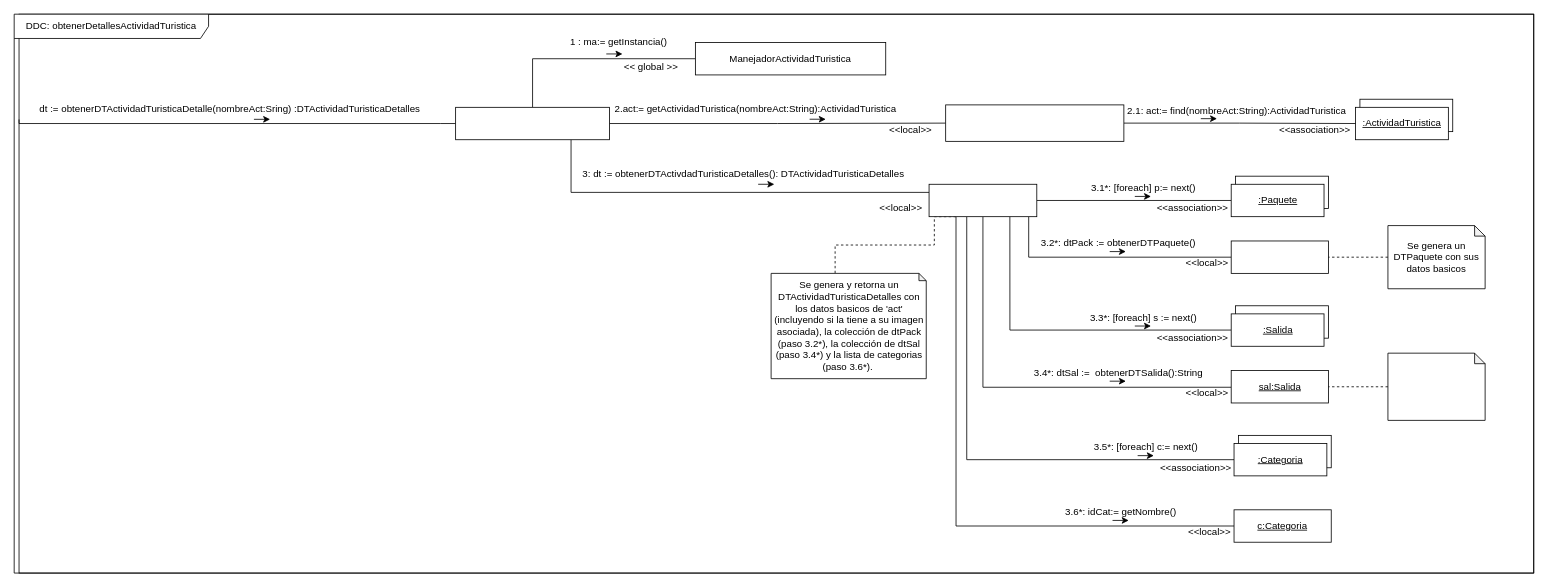
This 1548x587 diagram has some shape labels left out. The centre of each missing label's shape, as x and y in pixels:
":ControladorActividadTuristica" goes at point 532,123.
"act:ActividadTuristica" goes at point 982,200.
"ma :ManejadorActividadTuristica" goes at point 1034,122.
"p:Paquete" goes at point 1279,256.
"Se genera un DTSalidaTuristica con sus datos basicos" goes at point 1436,386.
